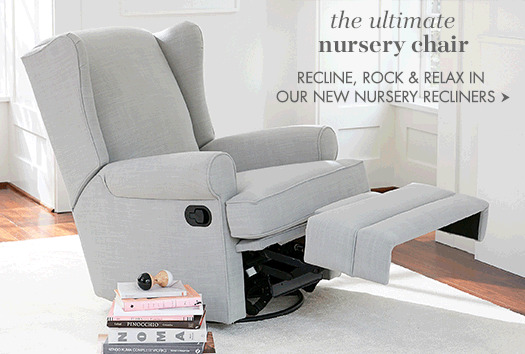chairs: (21, 14, 491, 321)
